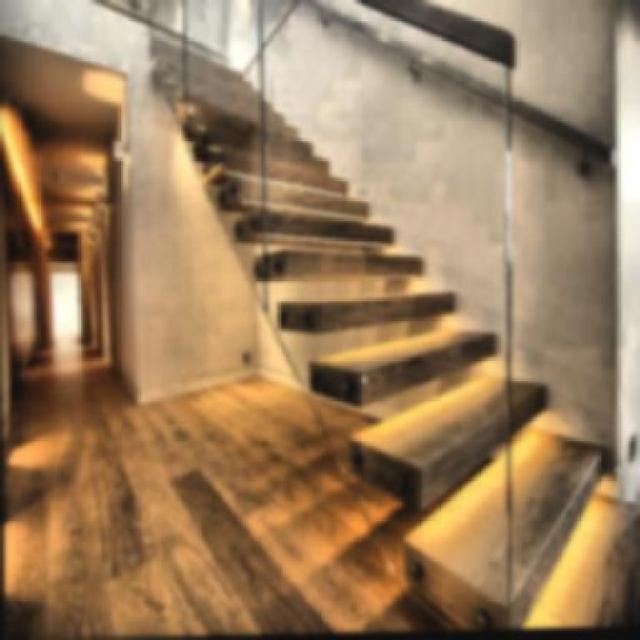stair: (229, 49, 540, 636)
